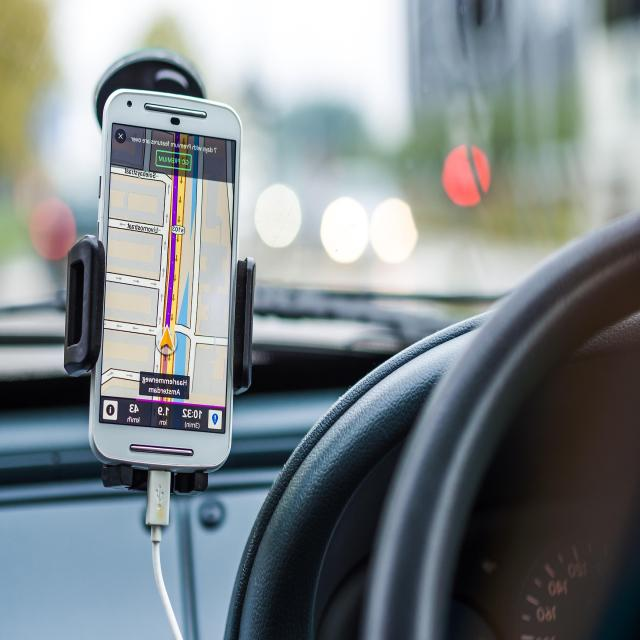Mobile: (48, 68, 254, 506)
